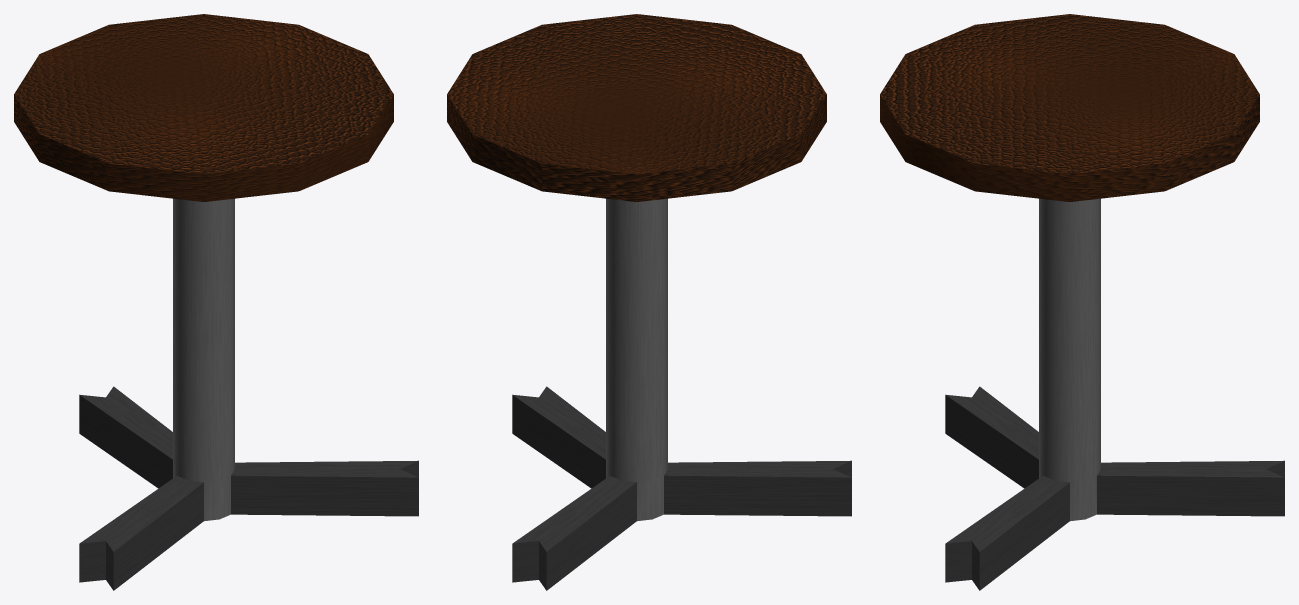
File: Stool_Textured.fbx
3 renders of one model, left to right at view 1: azimuth 30°, elevation 25°; view 2: azimuth 150°, elevation 25°; view 3: azimuth 270°, elevation 25°, orthographic.
Visible parts, largest first — view 1: pCylinder1; view 2: pCylinder1; view 3: pCylinder1.
Part boxes in pixels (x1=…): pCylinder1: x1=14, y1=14, x2=418, y2=590; pCylinder1: x1=447, y1=14, x2=851, y2=590; pCylinder1: x1=880, y1=14, x2=1284, y2=590.
Size of the model in its own units: 5.05 by 5.88 by 5.22.
